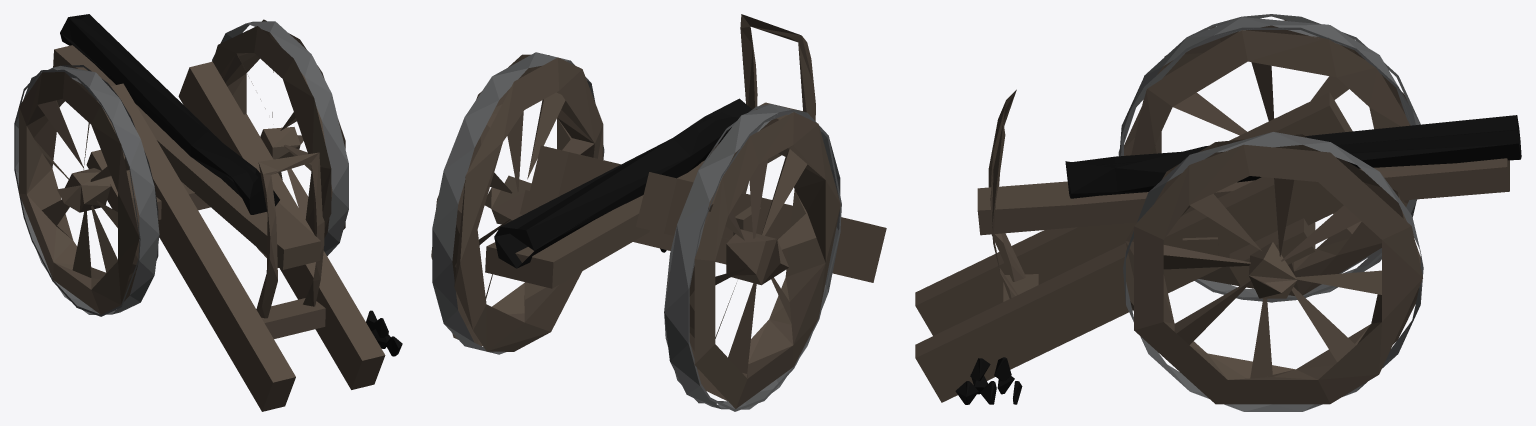
File: cannon.lod1.glb
3 renders of one model, left to right at view 1: azimuth 30°, elevation 25°; view 2: azimuth 150°, elevation 25°; view 3: azimuth 270°, elevation 25°, orthographic. The views are drawn at different scales.
Visible parts, largest first — view 1: Ruote.001_0; view 2: Ruote.001_0; view 3: Ruote.001_0.
Boxes of the visible parts, <box> form: Ruote.001_0: <box>14,14,402,411</box>; Ruote.001_0: <box>431,14,886,411</box>; Ruote.001_0: <box>915,14,1521,411</box>.
Size of the model in its own units: 1.28 by 1.24 by 2.3.
